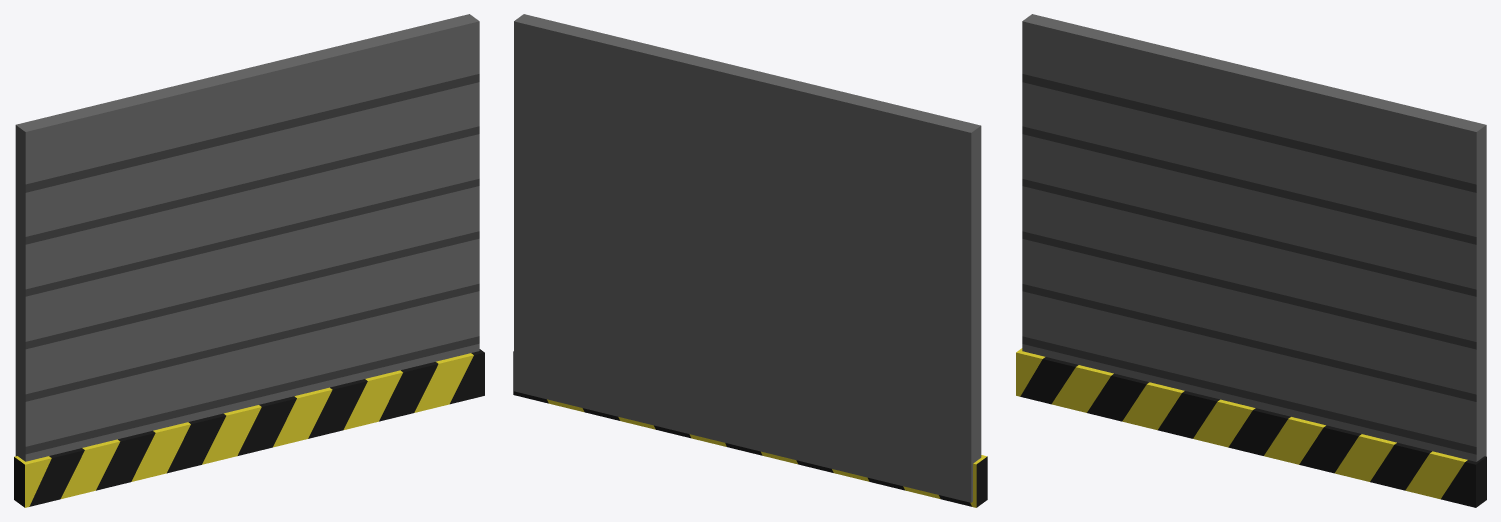
The model's file is bayDoor.fbx.
3 views of the same model, side by side, from view 1: azimuth 30°, elevation 25°; view 2: azimuth 150°, elevation 25°; view 3: azimuth 330°, elevation 25° (orthographic).
Parts seen in each view (by area): view 1: Bay Door; view 2: Bay Door; view 3: Bay Door.
Boxes of the visible parts, x1,y1,x2,y2 form: Bay Door: [14, 14, 484, 507]; Bay Door: [513, 14, 987, 507]; Bay Door: [1016, 14, 1486, 507].
Bounding box in the file's own units: 534 × 25.92 × 414.
